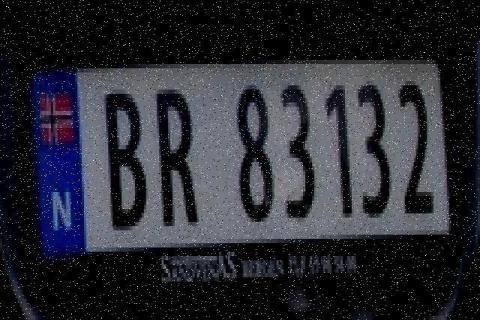LicensePlate: (13, 33, 471, 310)
